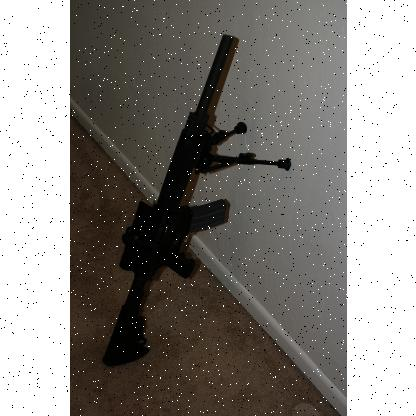gun: (104, 34, 290, 364)
